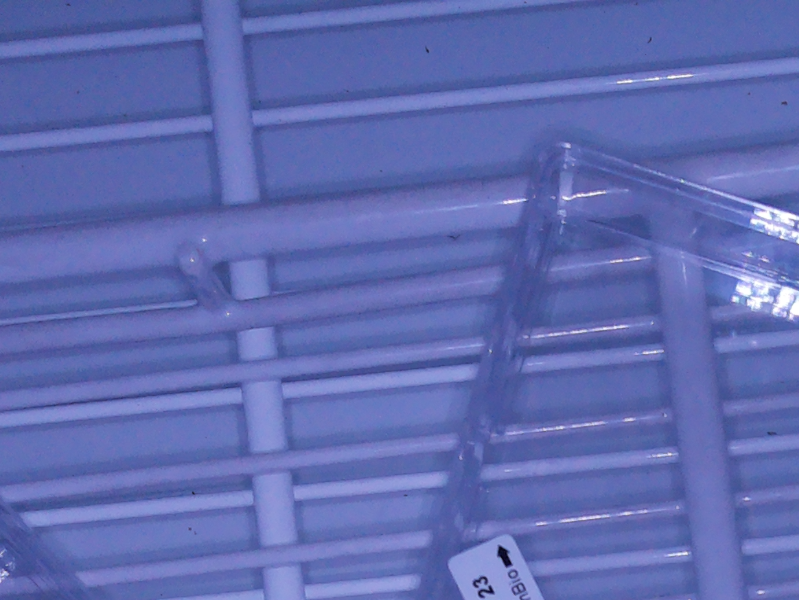plate: (419, 142, 799, 600)
